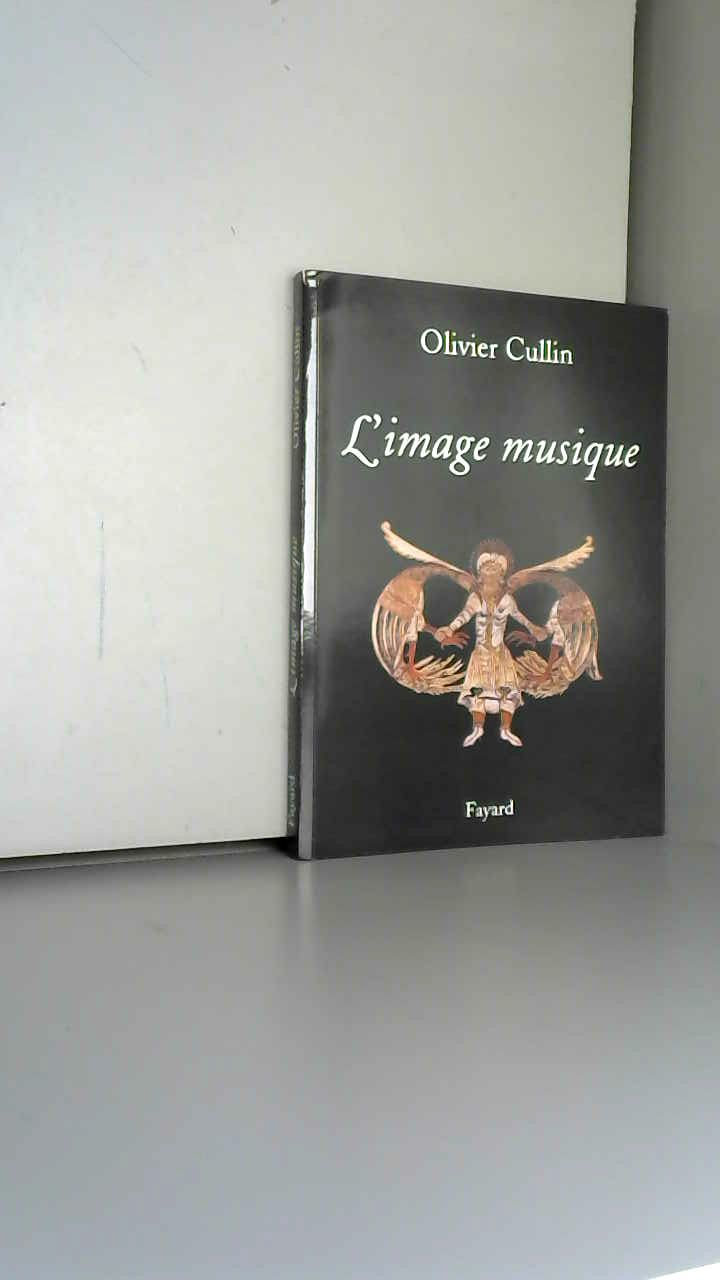book: (260, 240, 720, 882)
